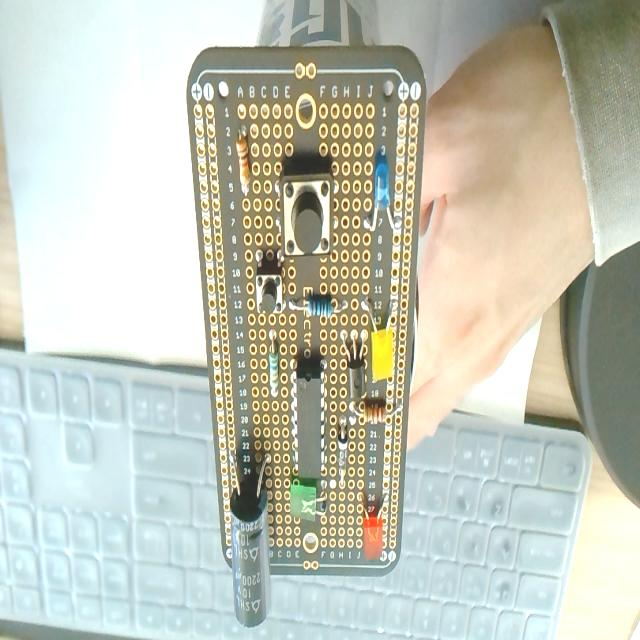Electrolytic capacitor: (224, 434, 276, 634)
IC: (286, 355, 330, 477)
diode: (334, 412, 348, 493)
led: (356, 164, 398, 240), (369, 300, 397, 380), (357, 494, 388, 558), (289, 480, 331, 527)
resistor: (275, 284, 351, 324), (255, 323, 281, 405), (232, 123, 256, 209), (348, 396, 401, 428)
switch: (278, 160, 334, 258), (254, 262, 284, 322)
transistor: (340, 336, 368, 400)
